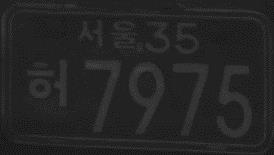3: (142, 18, 171, 54)
5: (214, 62, 255, 141), (174, 20, 199, 54)
7: (168, 58, 212, 138), (84, 57, 123, 136)
9: (127, 60, 166, 137)
서울_O: (78, 16, 139, 50)
허: (24, 55, 72, 110)
